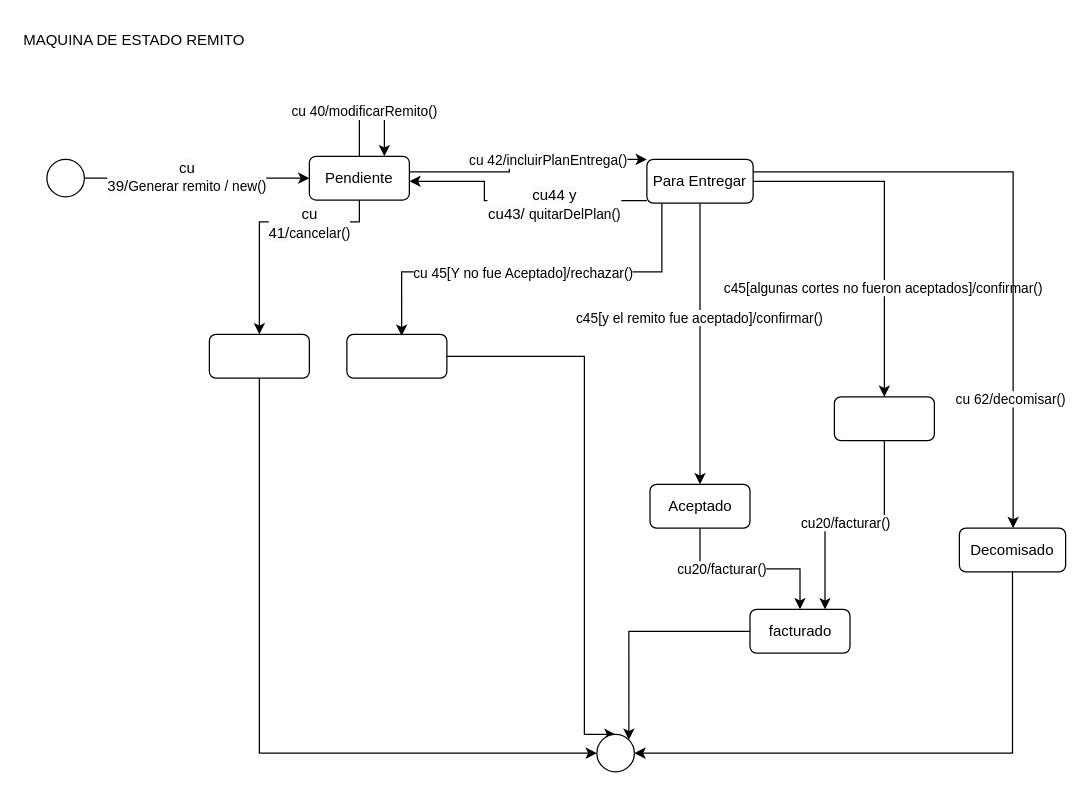
The diagram is 1088 pixels wide and 794 high, and some of its shapes have lost their labels. Here are the shapes that lost their labels. From the top down, the box of each, then its label:
(208, 333, 309, 378): Cancelado
(346, 333, 447, 378): Rechazado
(833, 396, 934, 441): Aceptado Parcialmente
